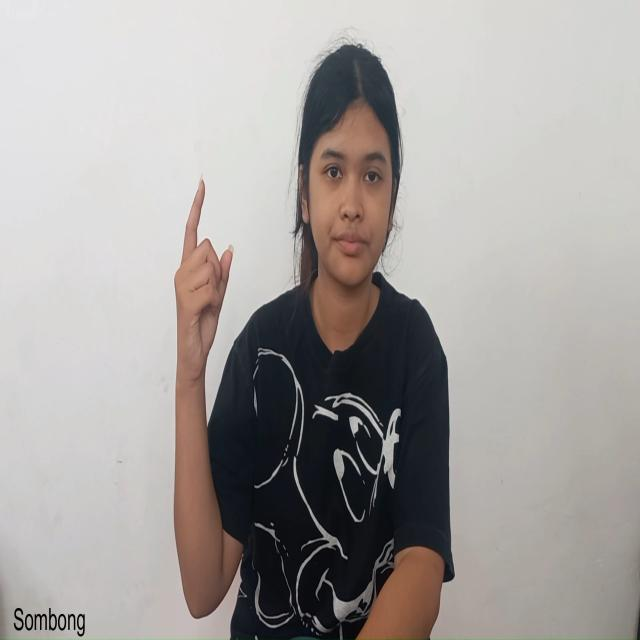Sombong -BISINDO-: (171, 170, 237, 624)
